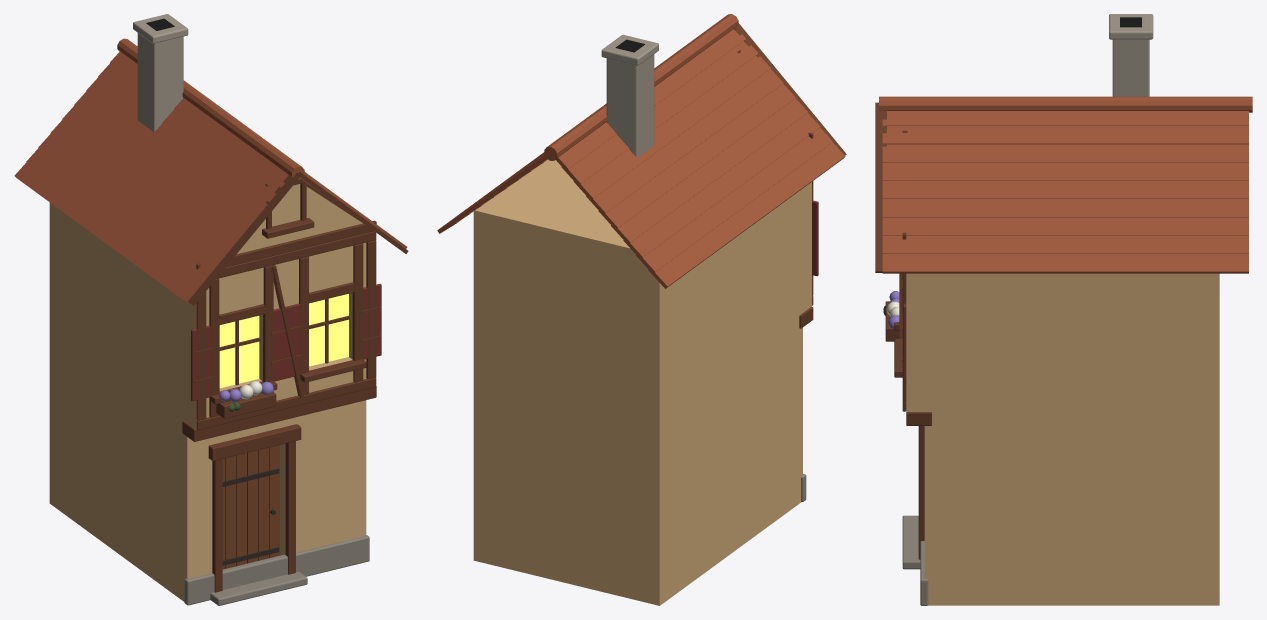
Rendered from casa_3x4.glb.
The picture shows the model from 3 angles, left to right: view 1: azimuth 30°, elevation 25°; view 2: azimuth 150°, elevation 25°; view 3: azimuth 270°, elevation 25°; orthographic projection. The views are drawn at different scales.
Parts seen in each view (by area): view 1: casa_3x4_pb_dentro, casa_3x4_pa_dentro, casa_3x4_pb.002, casa_3x4_pb, casa_3x4_tejado_-1_0, casa_3x4_zocalo, casa_3x4_tejado_-1_1, casa_3x4_tejado_-1_2, casa_3x4_tejado_-1_3, casa_3x4_tejado_-1_4, casa_3x4_tejado_-1_5, casa_3x4_chimenea0 (+43 smaller); view 2: casa_3x4_pb_dentro, casa_3x4_pa_dentro, casa_3x4_tejado_-1_0, casa_3x4_tejado_-1_3, casa_3x4_tejado_-1_4, casa_3x4_tejado_-1_5, casa_3x4_tejado_-1_2, casa_3x4_tejado_-1_1, casa_3x4_tejado_-1_6, casa_3x4_chimenea0, casa_3x4_tejado_-1_7, casa_3x4_tejado_cumbrera (+5 smaller); view 3: casa_3x4_pb_dentro, casa_3x4_pa_dentro, casa_3x4_tejado_1_0, casa_3x4_tejado_1_5, casa_3x4_tejado_1_3, casa_3x4_tejado_1_4, casa_3x4_tejado_1_2, casa_3x4_tejado_1_1, casa_3x4_tejado_1_6, casa_3x4_tejado_1_7, casa_3x4_tejado_cumbrera, casa_3x4_tejado_1_8 (+7 smaller).
Part boxes in pixels (left/top/right/bottom): casa_3x4_pb_dentro: left=49, top=322, right=176, bottom=596; casa_3x4_pa_dentro: left=49, top=202, right=187, bottom=422; casa_3x4_pb.002: left=280, top=400, right=366, bottom=555; casa_3x4_pb: left=177, top=416, right=220, bottom=601; casa_3x4_tejado_-1_0: left=14, top=162, right=202, bottom=303; casa_3x4_zocalo: left=184, top=535, right=369, bottom=605; casa_3x4_tejado_-1_1: left=26, top=148, right=214, bottom=287; casa_3x4_tejado_-1_2: left=38, top=134, right=226, bottom=272; casa_3x4_tejado_-1_3: left=50, top=120, right=235, bottom=258; casa_3x4_tejado_-1_4: left=62, top=105, right=246, bottom=244; casa_3x4_tejado_-1_5: left=74, top=91, right=257, bottom=230; casa_3x4_chimenea0: left=137, top=33, right=183, bottom=131; casa_3x4_pb_dentro: left=473, top=321, right=792, bottom=605; casa_3x4_pa_dentro: left=473, top=159, right=802, bottom=417; casa_3x4_tejado_-1_0: left=648, top=142, right=845, bottom=288; casa_3x4_tejado_-1_3: left=611, top=98, right=808, bottom=244; casa_3x4_tejado_-1_4: left=598, top=83, right=795, bottom=229; casa_3x4_tejado_-1_5: left=586, top=69, right=783, bottom=214; casa_3x4_tejado_-1_2: left=623, top=113, right=820, bottom=258; casa_3x4_tejado_-1_1: left=636, top=127, right=832, bottom=273; casa_3x4_tejado_-1_6: left=573, top=56, right=770, bottom=199; casa_3x4_chimenea0: left=606, top=54, right=654, bottom=157; casa_3x4_tejado_-1_7: left=561, top=41, right=758, bottom=184; casa_3x4_tejado_cumbrera: left=544, top=14, right=738, bottom=160; casa_3x4_pb_dentro: left=946, top=412, right=1219, bottom=605; casa_3x4_pa_dentro: left=924, top=273, right=1219, bottom=411; casa_3x4_tejado_1_0: left=882, top=253, right=1248, bottom=273; casa_3x4_tejado_1_5: left=882, top=162, right=1248, bottom=180; casa_3x4_tejado_1_3: left=882, top=199, right=1248, bottom=217; casa_3x4_tejado_1_4: left=882, top=180, right=1248, bottom=198; casa_3x4_tejado_1_2: left=882, top=217, right=1248, bottom=235; casa_3x4_tejado_1_1: left=882, top=235, right=1248, bottom=253; casa_3x4_tejado_1_6: left=882, top=144, right=1248, bottom=162; casa_3x4_tejado_1_7: left=882, top=126, right=1248, bottom=144; casa_3x4_tejado_cumbrera: left=879, top=96, right=1252, bottom=112; casa_3x4_tejado_1_8: left=882, top=111, right=1248, bottom=125.
Bounding box in the file's own units: 3.72 × 7.88 × 5.12.
